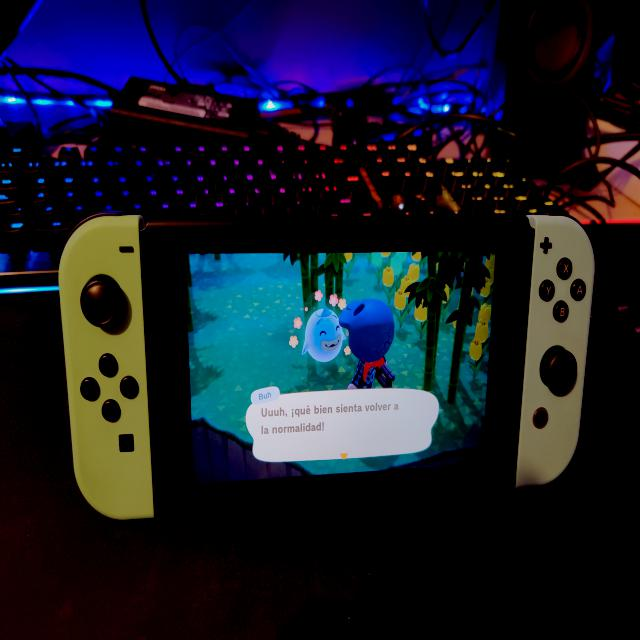text_bubble: (247, 384, 442, 465)
